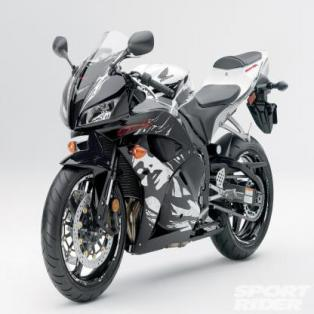Motocicleta: (39, 24, 282, 303)
